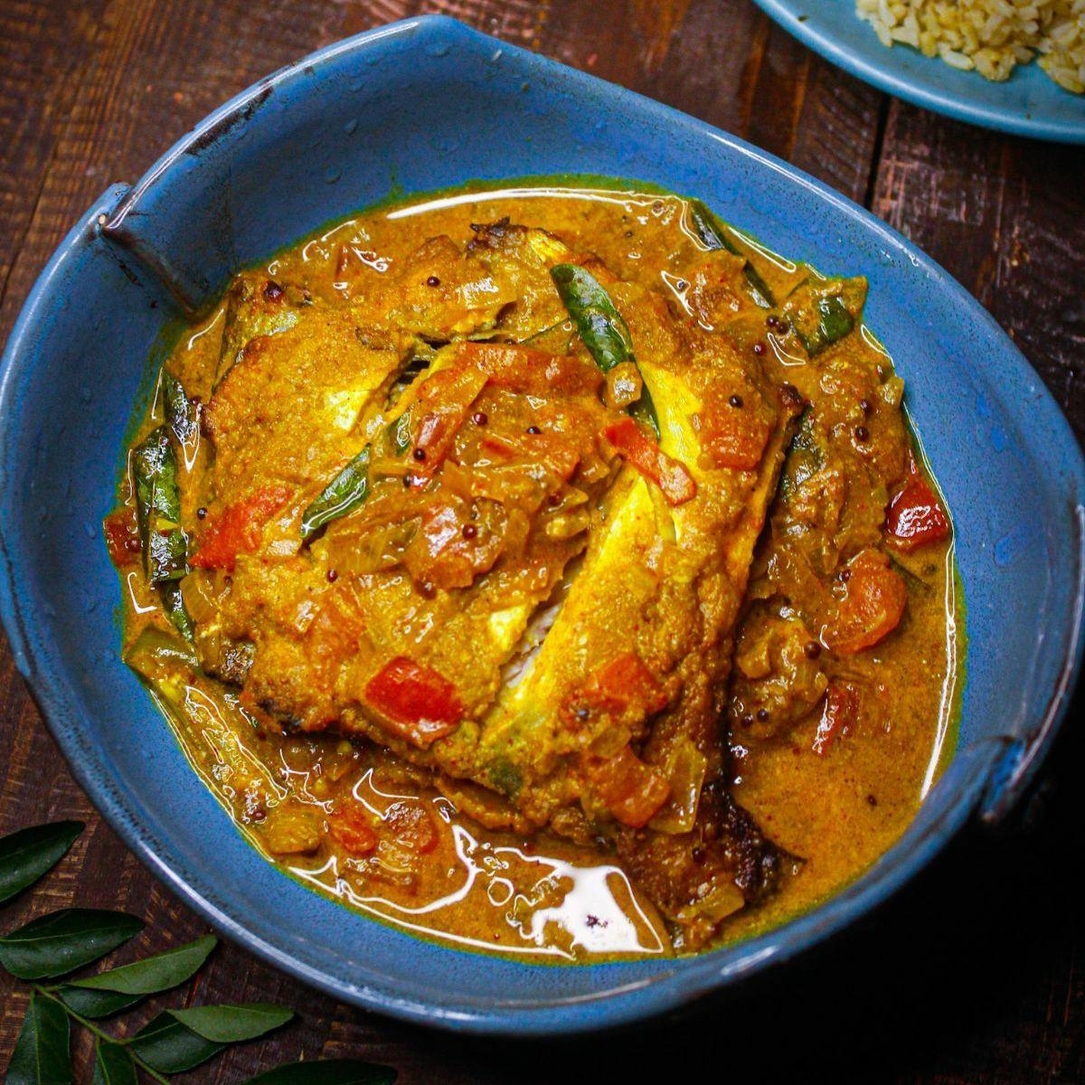FishCurry: (125, 184, 959, 957)
